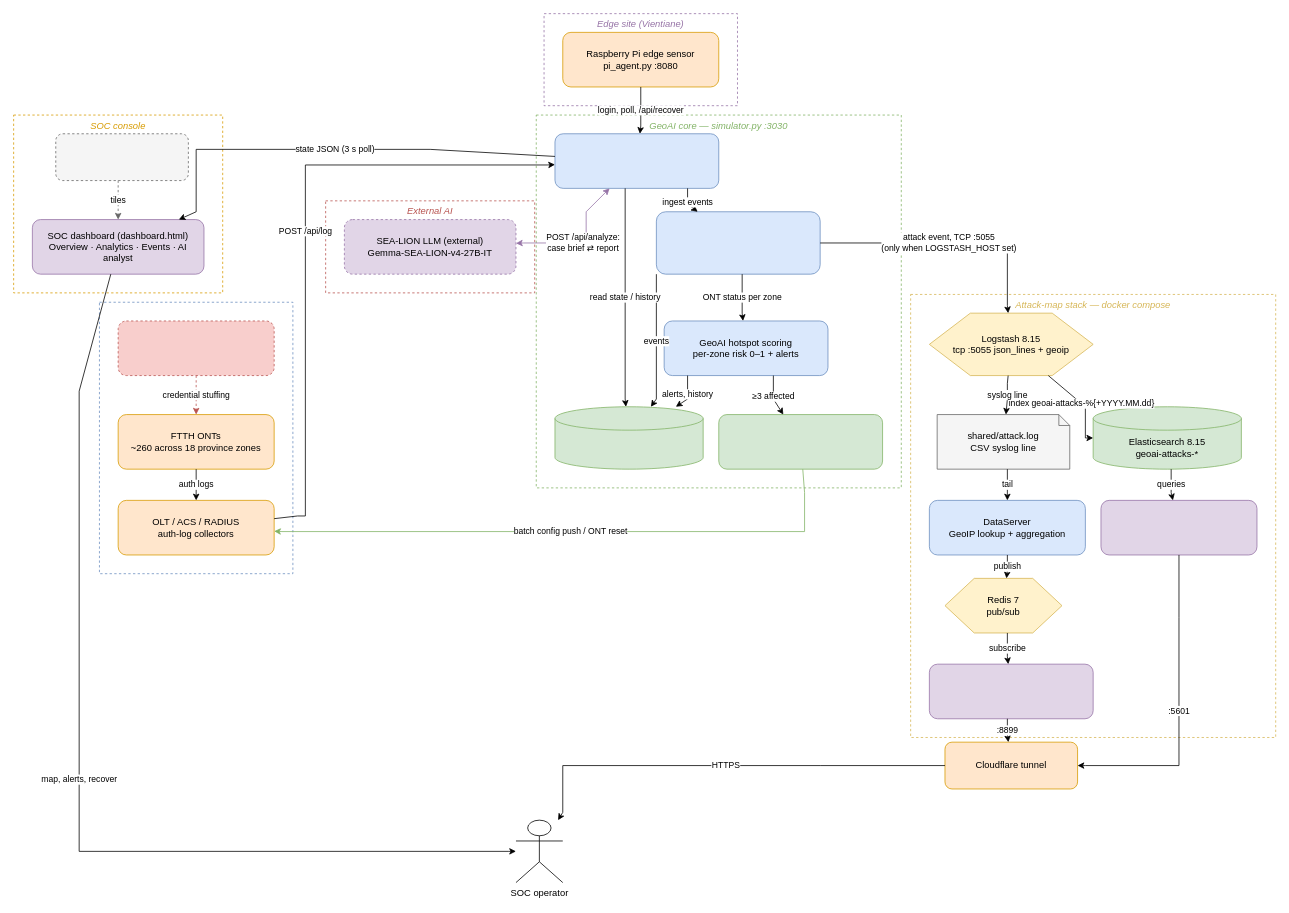
The diagram is 1289 pixels wide and 913 high, and some of its shapes have lost their labels. Each missing label, with the box of its shape:
AI detection engine ≥5 fails / 60 s → suspicious cred change → compromised: (656, 211, 820, 274)
Automated ACS recovery batch reset per zone (TR-069 stub): (718, 414, 883, 469)
Credential-stuffing attacker global source IP pool: (117, 320, 274, 376)
Field — FTTH network: (99, 301, 293, 574)
HTTP API + session auth GEOAI_USER / X-Auth token: (554, 133, 719, 188)
In-memory state + history ONTs, zones, alerts, events: (554, 406, 703, 469)
Kibana :5601 GeoAI — Attack Analytics: (1100, 500, 1257, 555)
Leaflet + basemap tiles (CDN): (55, 133, 188, 181)
MapServer :8899 Norse-style world attack map: (929, 663, 1093, 719)
